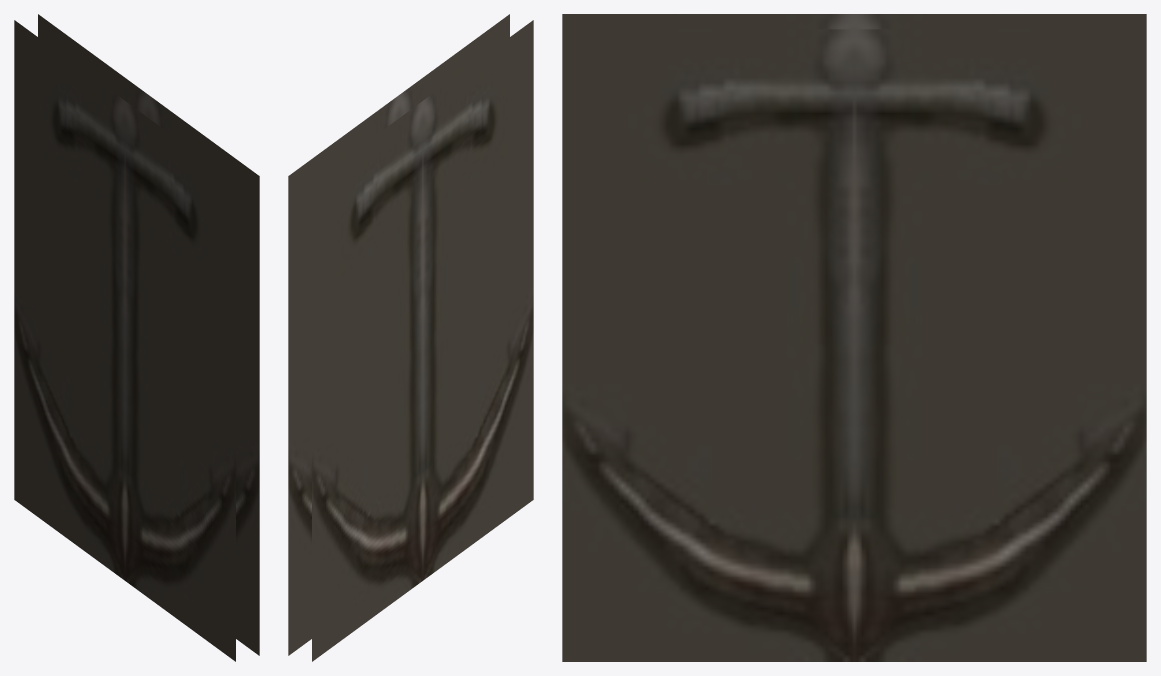
File: sign1_spanish_b_icon_shipwright.fbx
3 views of the same model, side by side, from view 1: azimuth 30°, elevation 25°; view 2: azimuth 150°, elevation 25°; view 3: azimuth 270°, elevation 25° (orthographic). The views are drawn at different scales.
Parts seen in each view (by area): view 1: icons; view 2: icons; view 3: icons.
Part boxes in pixels (left/top/right/bottom): icons: left=14, top=14, right=259, bottom=661; icons: left=288, top=14, right=533, bottom=661; icons: left=562, top=14, right=1146, bottom=661.
Size of the model in its own units: 16.67 by 321 by 269.
Materials: 1 (1 with a texture image).
